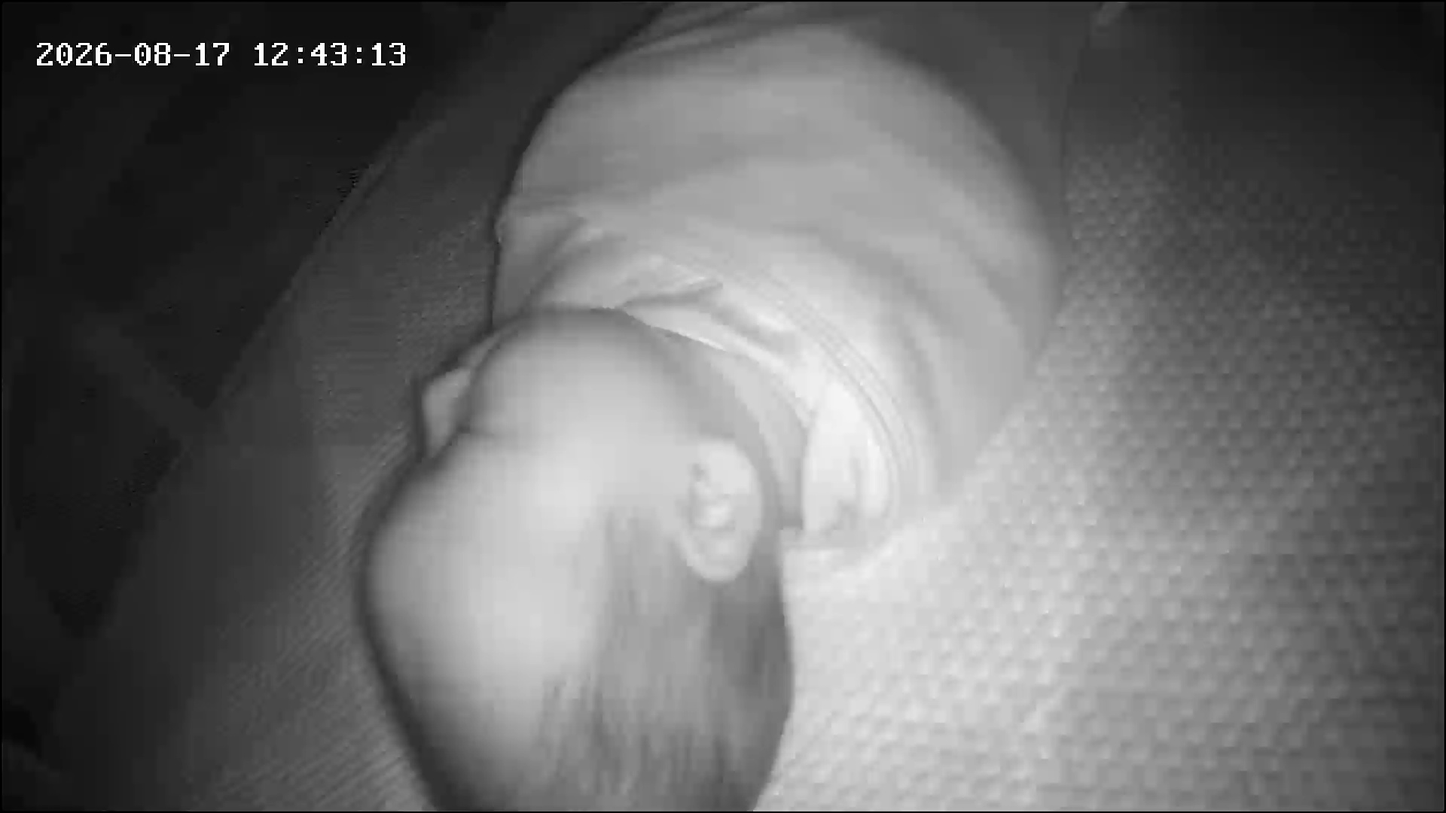baby: (322, 4, 1109, 813)
baby_face: (341, 294, 822, 812)
